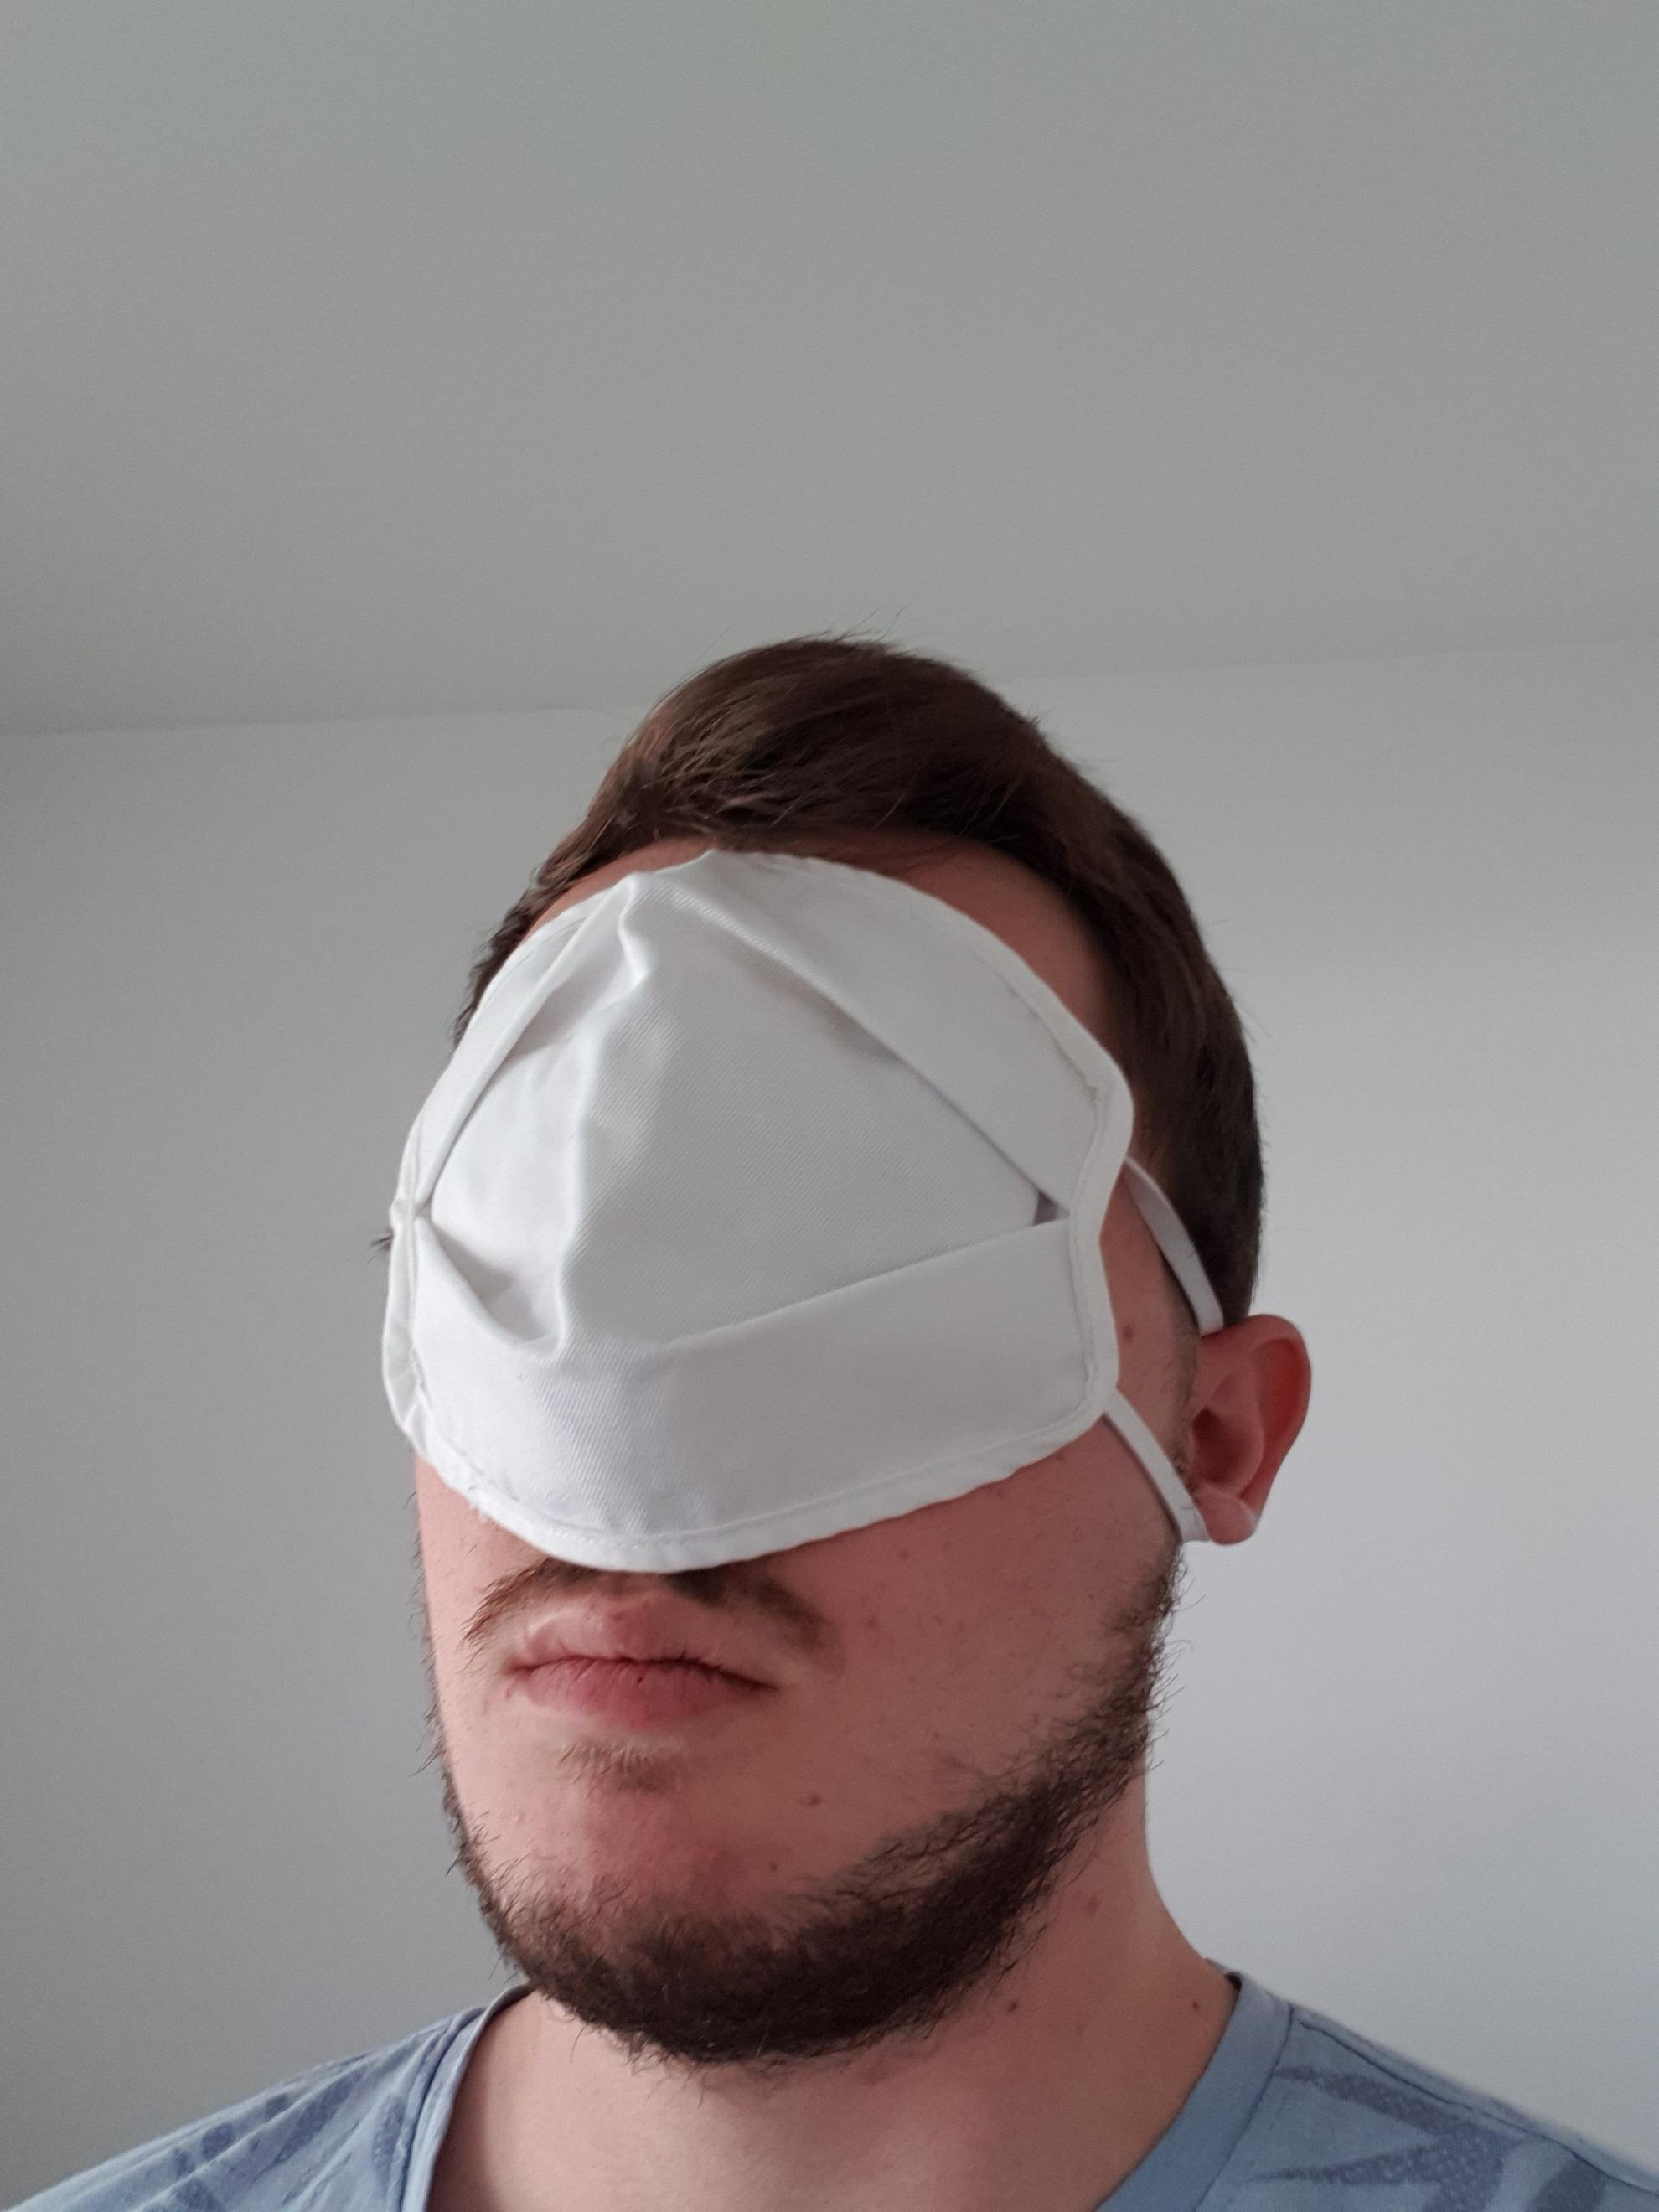with_incorrect_mask: (371, 638, 1340, 2046)
